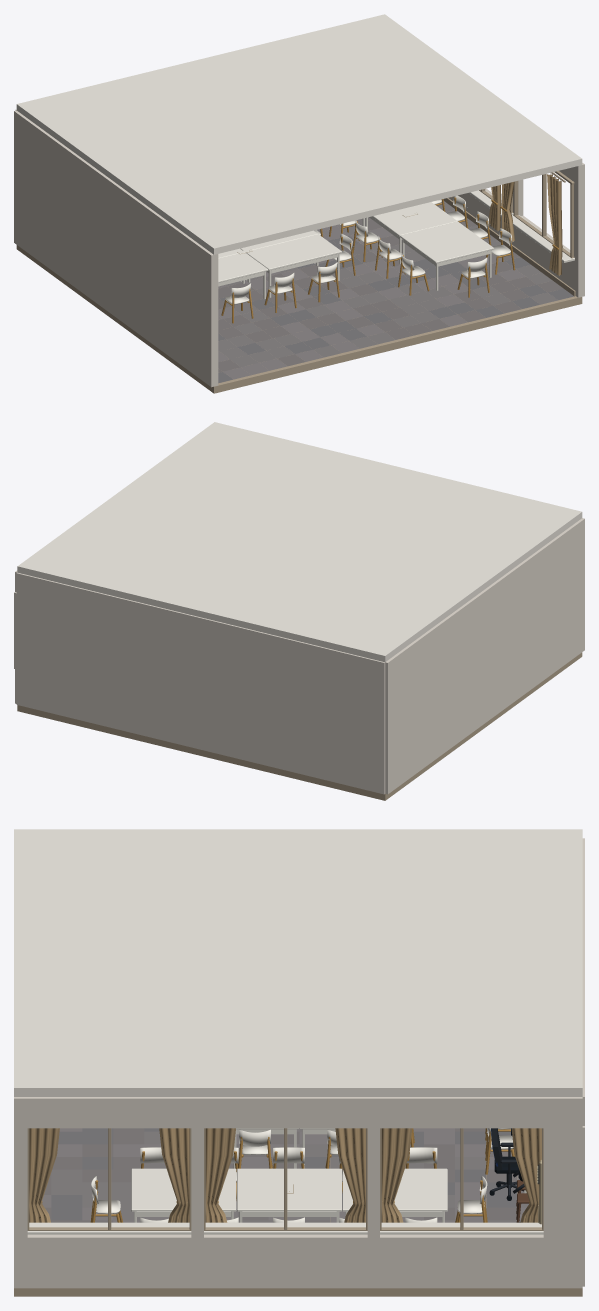
The model's file is classroom-color-sun-v7.glb.
3 views of the same model, one above another, from view 1: azimuth 30°, elevation 25°; view 2: azimuth 150°, elevation 25°; view 3: azimuth 270°, elevation 25° (orthographic). The views are drawn at different scales.
Parts seen in each view (by area): view 1: Classroom_color_mobile; view 2: Classroom_color_mobile; view 3: Classroom_color_mobile.
Boxes of the visible parts, x1=… form: Classroom_color_mobile: x1=14, y1=14, x2=584, y2=393; Classroom_color_mobile: x1=14, y1=422, x2=584, y2=800; Classroom_color_mobile: x1=14, y1=829, x2=584, y2=1296.
Size of the model in its own units: 9.94 by 3.69 by 9.14.
Materials: 1 (1 with a texture image).
